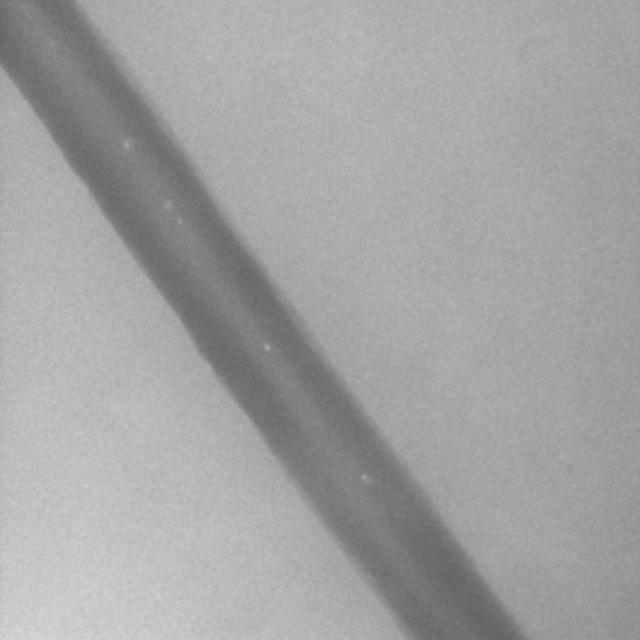air hole: (120, 137, 131, 151), (261, 338, 272, 352), (358, 470, 369, 482)
